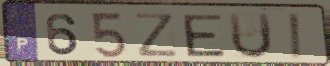5: (89, 10, 130, 60)
6: (44, 12, 81, 57)
E: (180, 13, 228, 59)
I: (285, 11, 304, 62)
U: (226, 11, 275, 61)
Z: (133, 12, 181, 59)
